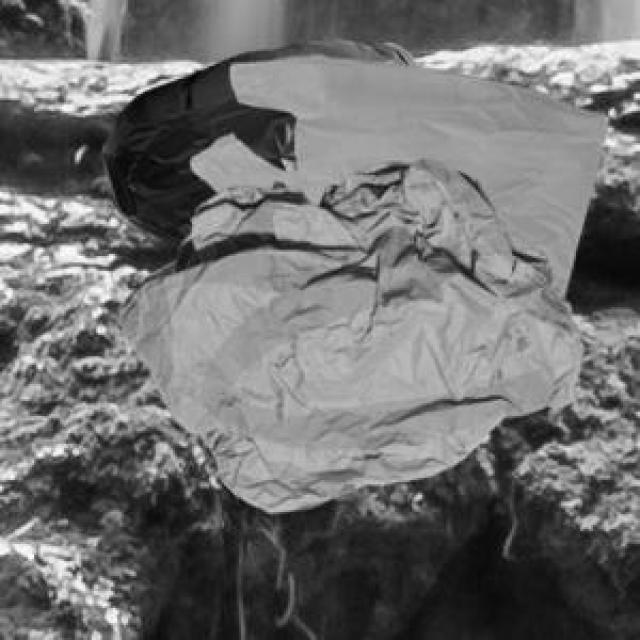miscellaneous trash: (98, 34, 411, 245)
paper: (115, 156, 580, 508)
